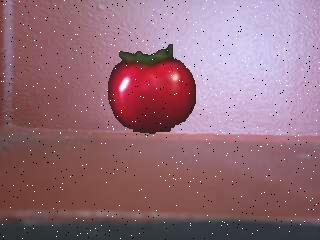Tomato: (104, 42, 198, 136)
